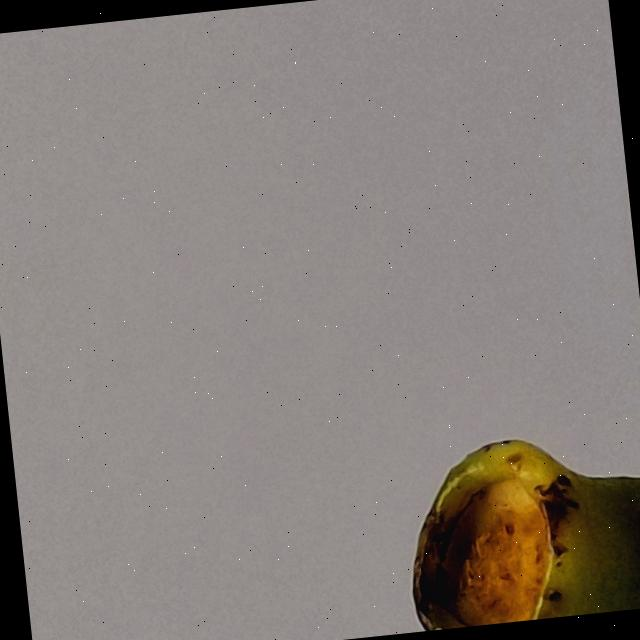mangosteen: (232, 0, 640, 640)
